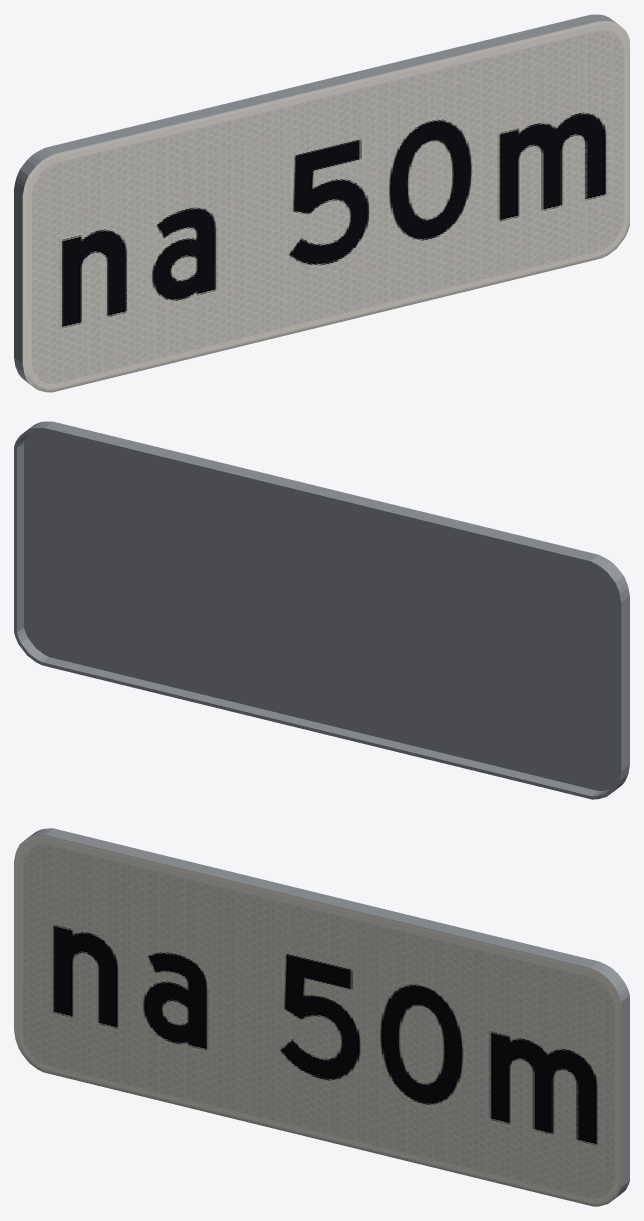
3 views of the same model, one above another, from view 1: azimuth 30°, elevation 25°; view 2: azimuth 150°, elevation 25°; view 3: azimuth 330°, elevation 25° (orthographic).
Visible parts, largest first — view 1: cat_cf4d2d0caddba08a; view 2: cat_cf4d2d0caddba08a; view 3: cat_cf4d2d0caddba08a.
Boxes of the visible parts, x1=… form: cat_cf4d2d0caddba08a: x1=14, y1=14, x2=629, y2=392; cat_cf4d2d0caddba08a: x1=14, y1=421, x2=629, y2=799; cat_cf4d2d0caddba08a: x1=14, y1=828, x2=629, y2=1206.
Size of the model in its own units: 0.6 by 0.015 by 0.2246.
Materials: 2 (1 with a texture image).
